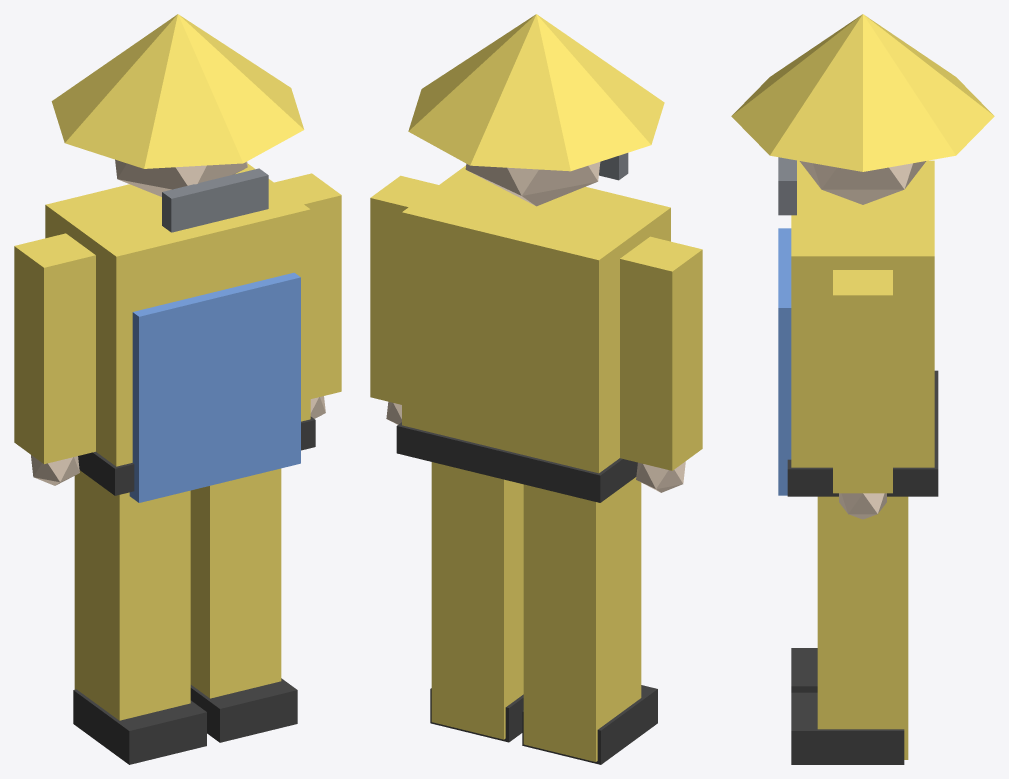
Rendered from VendorFish.fbx.
The picture shows the model from 3 angles, left to right: view 1: azimuth 30°, elevation 25°; view 2: azimuth 150°, elevation 25°; view 3: azimuth 270°, elevation 25°; orthographic projection.
Parts seen in each view (by area): view 1: Body, Part_Head, Part_LegL, Part_LegR, Part_ArmL, Part_ArmR; view 2: Body, Part_LegL, Part_Head, Part_LegR, Part_ArmL, Part_ArmR; view 3: Body, Part_Head, Part_LegR, Part_ArmR, Part_LegL.
Part boxes in pixels (x1,y1,x2,y2): Body: (45,163,315,502); Part_Head: (51,14,304,232); Part_LegL: (73,470,206,764); Part_LegR: (190,468,297,742); Part_ArmL: (14,233,95,485); Part_ArmR: (274,173,341,418); Body: (396,165,670,502); Part_LegL: (522,477,657,764); Part_Head: (408,14,664,206); Part_LegR: (430,462,523,742); Part_ArmL: (620,236,702,492); Part_ArmR: (370,175,438,424); Body: (778,160,938,496); Part_Head: (731,14,994,215); Part_LegR: (791,496,908,764); Part_ArmR: (833,270,892,519); Part_LegL: (791,648,817,692).
Bounding box in the file's own units: 0.92 × 2.08 × 0.7.
